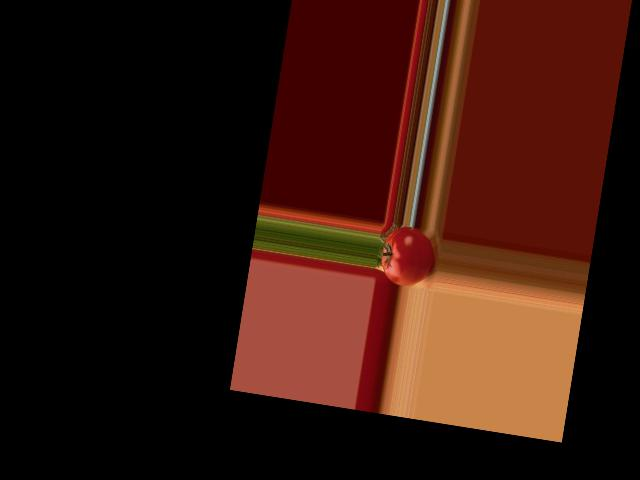tomato: (377, 223, 437, 290)
